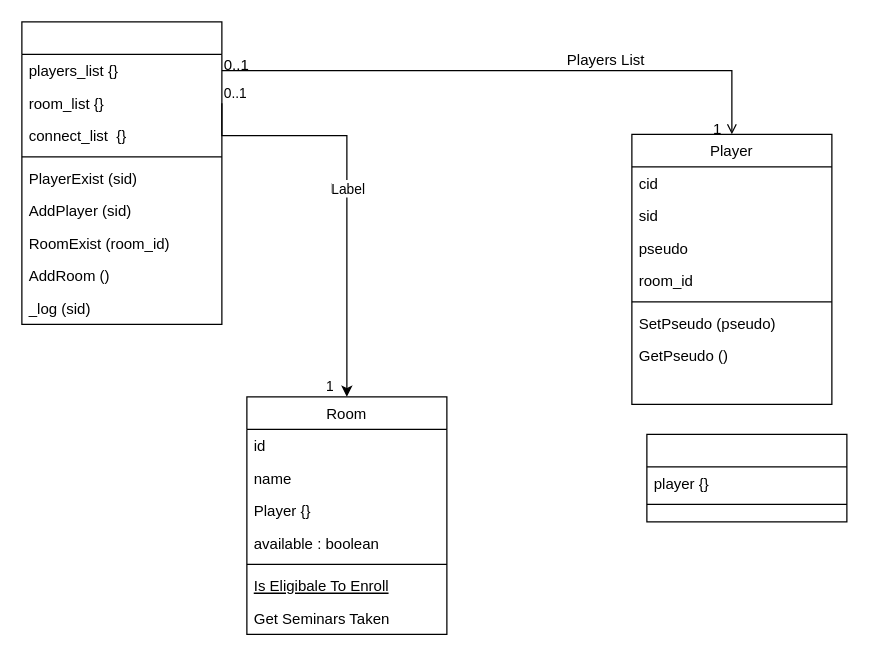
The diagram is 869 pixels wide and 660 high, and some of its shapes have lost their labels. Each missing label, with the box of its shape:
Game: (646, 433, 847, 522)
lobby: (21, 21, 222, 324)
